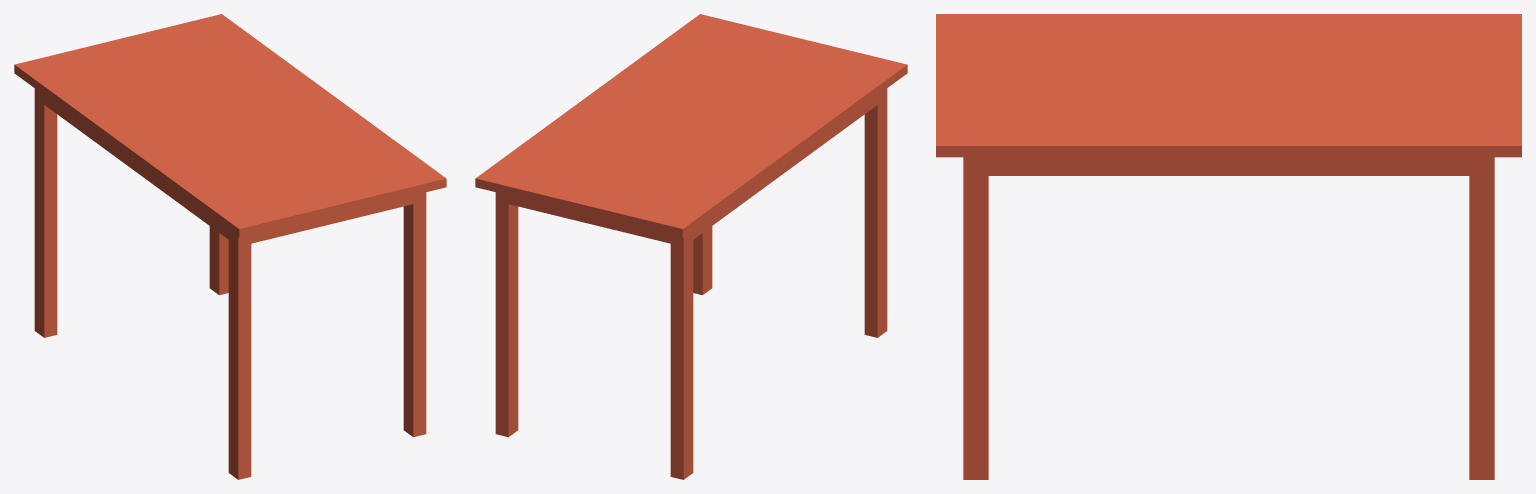
File: table.fbx
3 renders of one model, left to right at view 1: azimuth 30°, elevation 25°; view 2: azimuth 150°, elevation 25°; view 3: azimuth 270°, elevation 25°, orthographic. The views are drawn at different scales.
Parts seen in each view (by area): view 1: Table; view 2: Table; view 3: Table.
Boxes of the visible parts, bbox=[...] form: Table: bbox=[14, 14, 446, 479]; Table: bbox=[475, 14, 907, 479]; Table: bbox=[936, 14, 1521, 479].
Bounding box in the file's own units: 2013 × 3778 × 2420.
